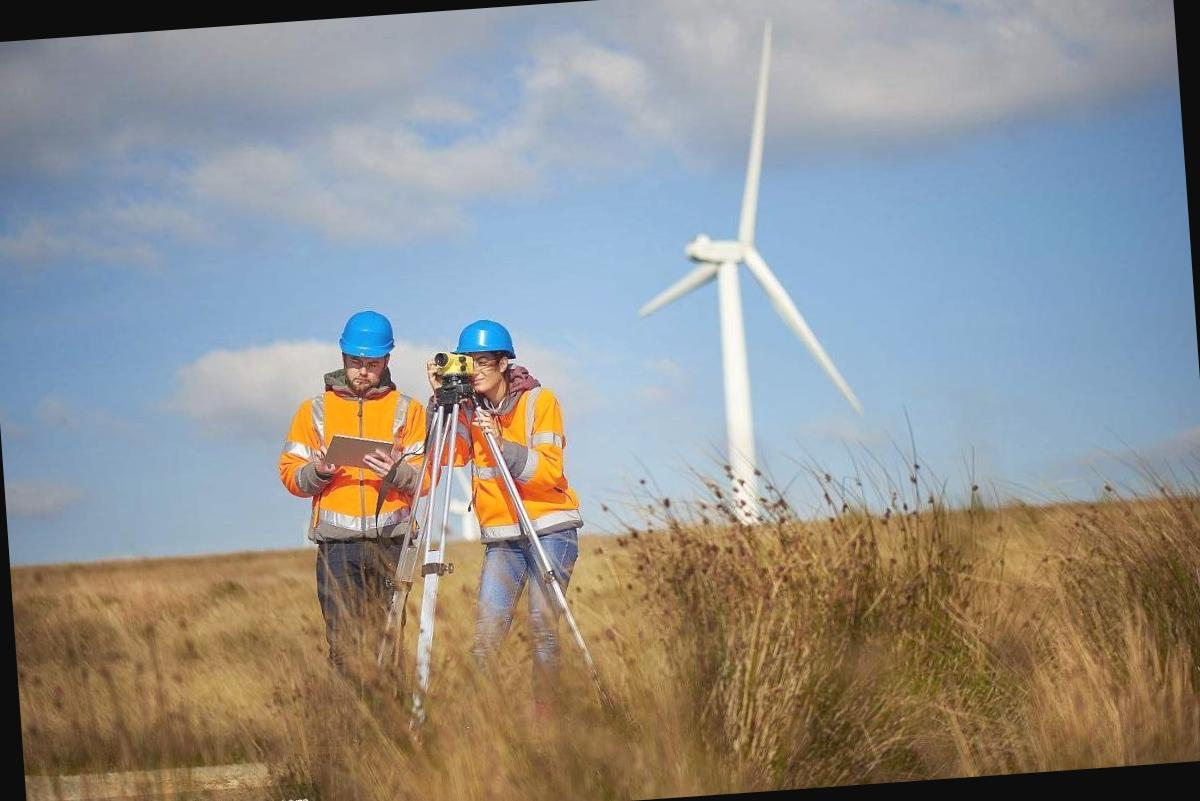helmet: (336, 303, 400, 363), (447, 314, 517, 368)
person: (268, 299, 458, 697), (447, 312, 596, 700)
